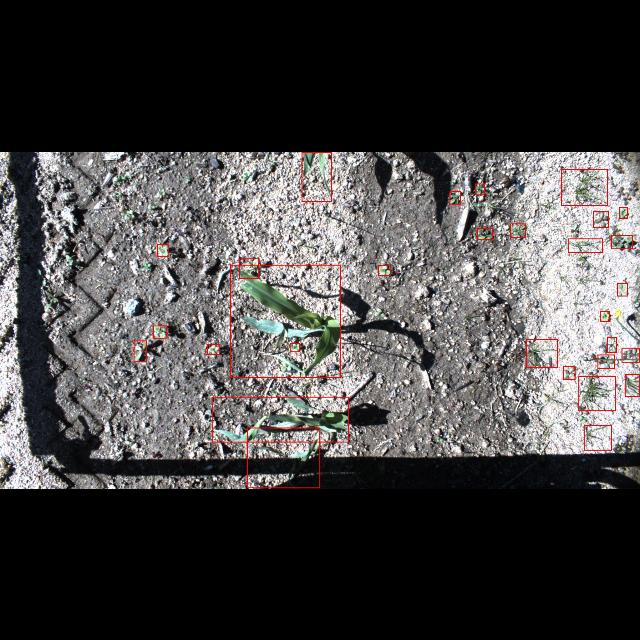crop: (230, 264, 340, 378), (213, 396, 349, 442), (247, 428, 320, 488), (302, 151, 332, 201)
weed: (561, 168, 607, 204), (578, 376, 616, 410), (526, 339, 558, 367), (584, 424, 612, 450), (569, 238, 603, 252), (239, 258, 259, 278), (625, 374, 639, 396), (612, 235, 632, 248), (134, 341, 146, 362), (622, 347, 640, 361), (594, 211, 608, 227), (598, 354, 614, 368), (510, 223, 526, 237), (153, 325, 167, 337), (563, 366, 575, 378), (617, 282, 627, 296), (478, 228, 492, 238), (450, 190, 460, 204), (207, 344, 220, 354), (608, 336, 616, 352), (618, 206, 628, 218), (475, 182, 485, 194), (378, 265, 390, 275), (158, 244, 168, 256), (600, 311, 610, 321), (290, 342, 300, 352)
